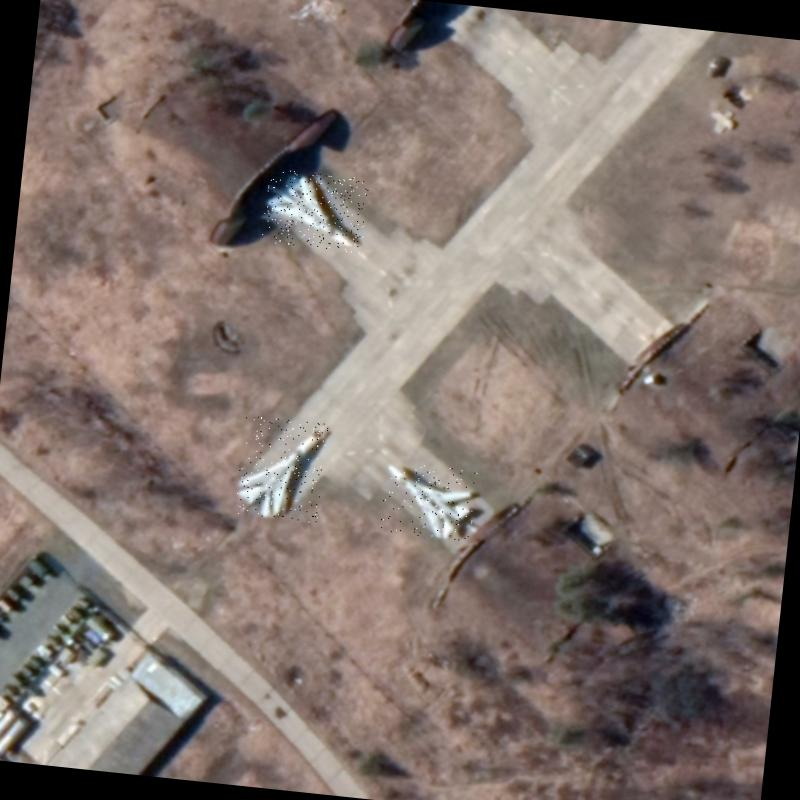A20: (234, 415, 328, 523), (261, 168, 369, 253), (379, 461, 477, 542)
